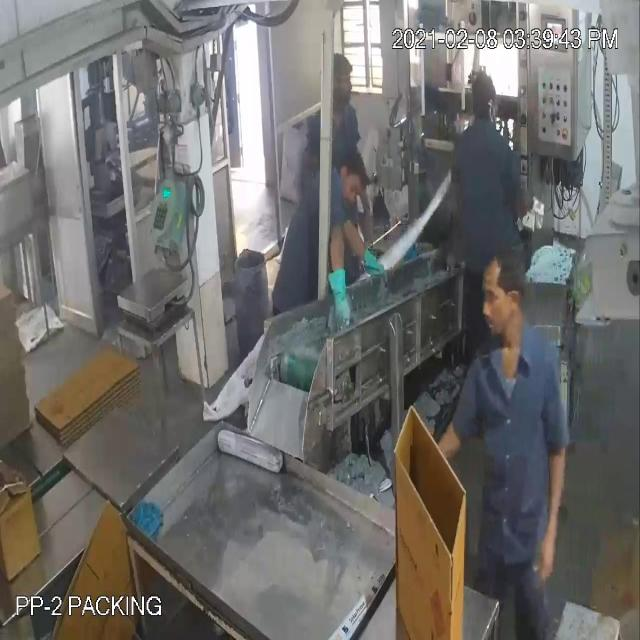gloves: (324, 238, 352, 342)
no-gloves: (519, 431, 573, 591)
